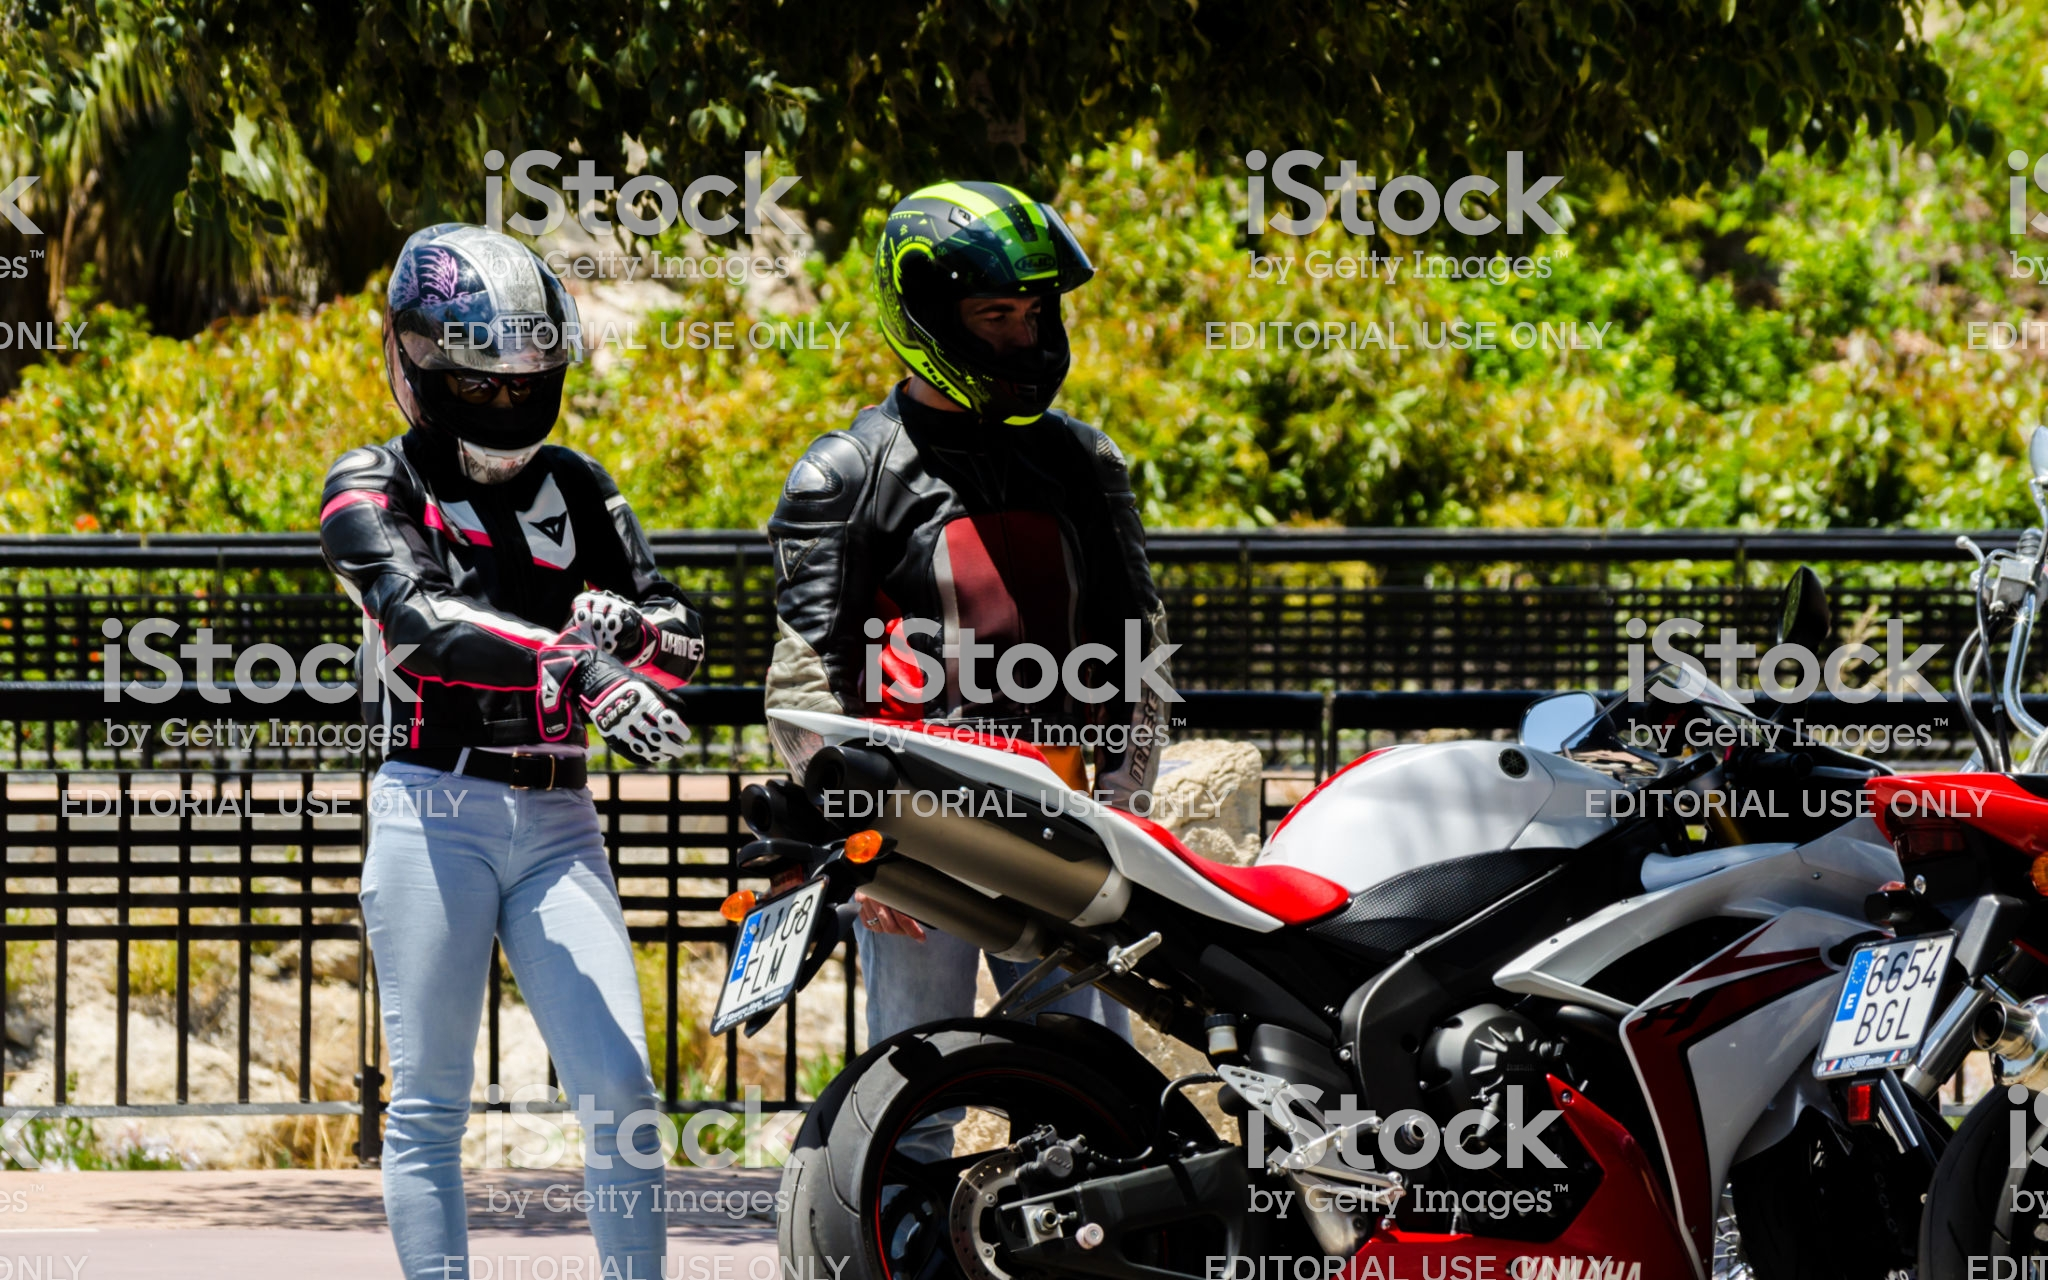helmet: (865, 164, 1101, 442), (360, 226, 588, 501)
